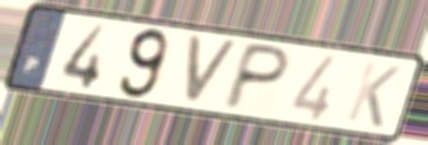4: (56, 19, 109, 92), (287, 51, 340, 122)
9: (115, 26, 175, 102)
K: (342, 57, 405, 131)
P: (216, 40, 296, 113)
V: (183, 32, 242, 108)
